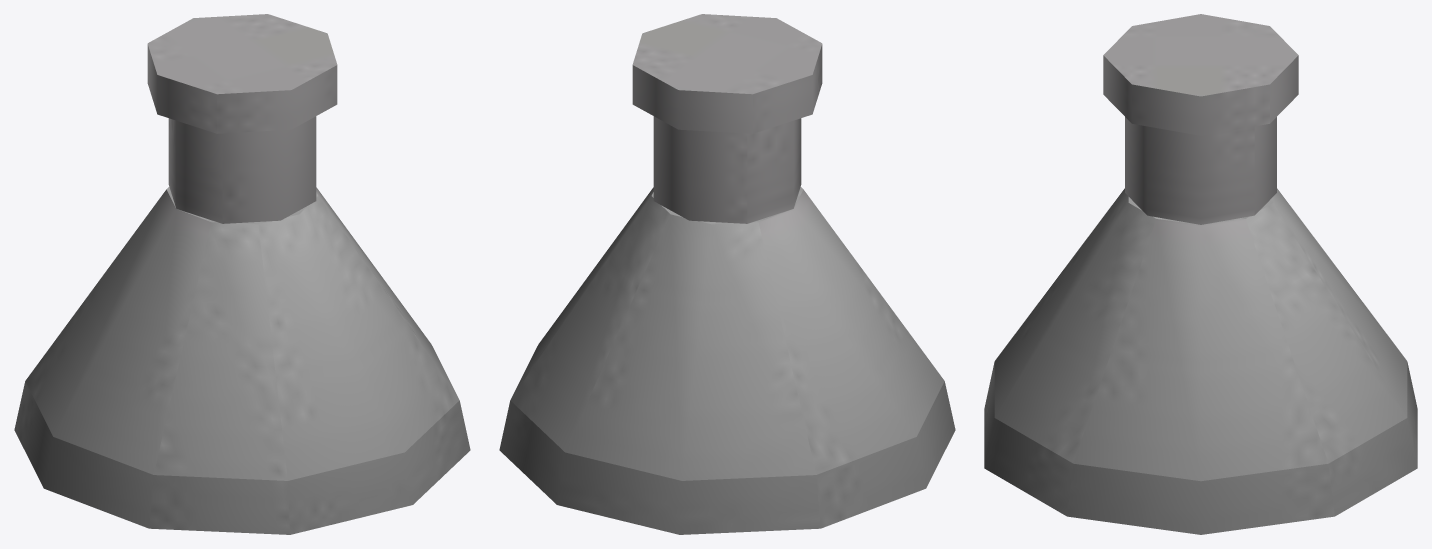
File: space-science-pack.glb
3 renders of one model, left to right at view 1: azimuth 30°, elevation 25°; view 2: azimuth 150°, elevation 25°; view 3: azimuth 270°, elevation 25°, orthographic.
Parts seen in each view (by area): view 1: space-science-pack; view 2: space-science-pack; view 3: space-science-pack.
Part boxes in pixels (x1,y1,x2,y2): space-science-pack: [14, 14, 470, 534]; space-science-pack: [499, 14, 955, 534]; space-science-pack: [984, 14, 1417, 534].
Bounding box in the file's own units: 0.21 × 0.195 × 0.1997.
1 material, 1 textured.
